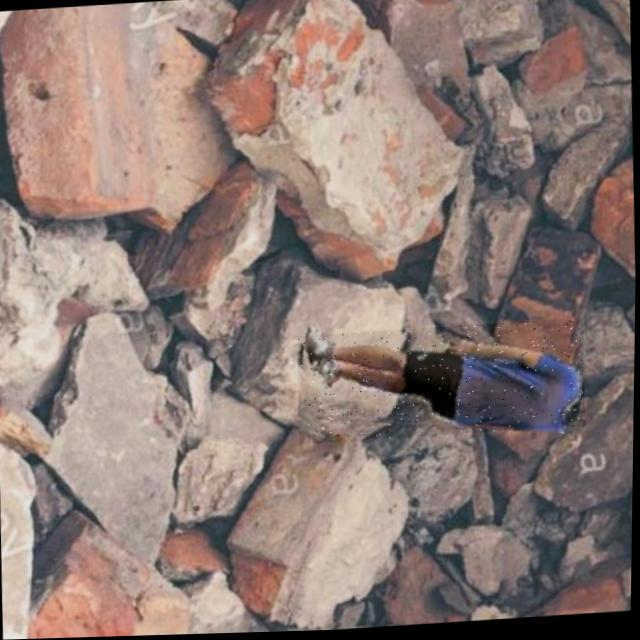Person in Rubble: (295, 321, 587, 446)
